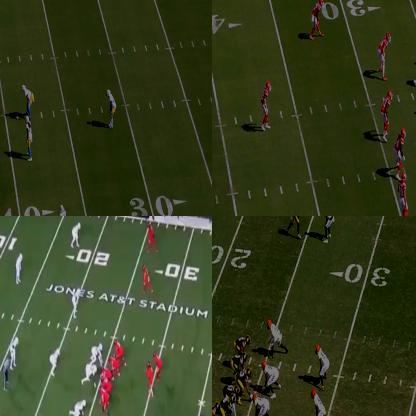CENTER: (234, 367, 254, 399), (100, 362, 113, 378)
DB: (378, 32, 390, 80), (309, 0, 324, 38), (262, 82, 272, 130), (106, 89, 116, 128), (323, 216, 334, 241), (12, 337, 20, 367), (15, 253, 23, 282), (73, 222, 82, 246), (59, 203, 68, 215)
LB: (266, 319, 282, 357), (316, 344, 329, 389), (393, 133, 405, 180), (381, 91, 391, 142), (397, 173, 409, 215), (24, 84, 34, 117), (313, 390, 326, 415), (27, 115, 33, 161), (50, 347, 59, 374), (73, 290, 80, 318)
QB: (145, 359, 152, 393)
SKILL: (291, 216, 304, 244), (145, 222, 156, 252), (143, 268, 153, 294), (156, 351, 164, 380), (212, 400, 222, 415)
